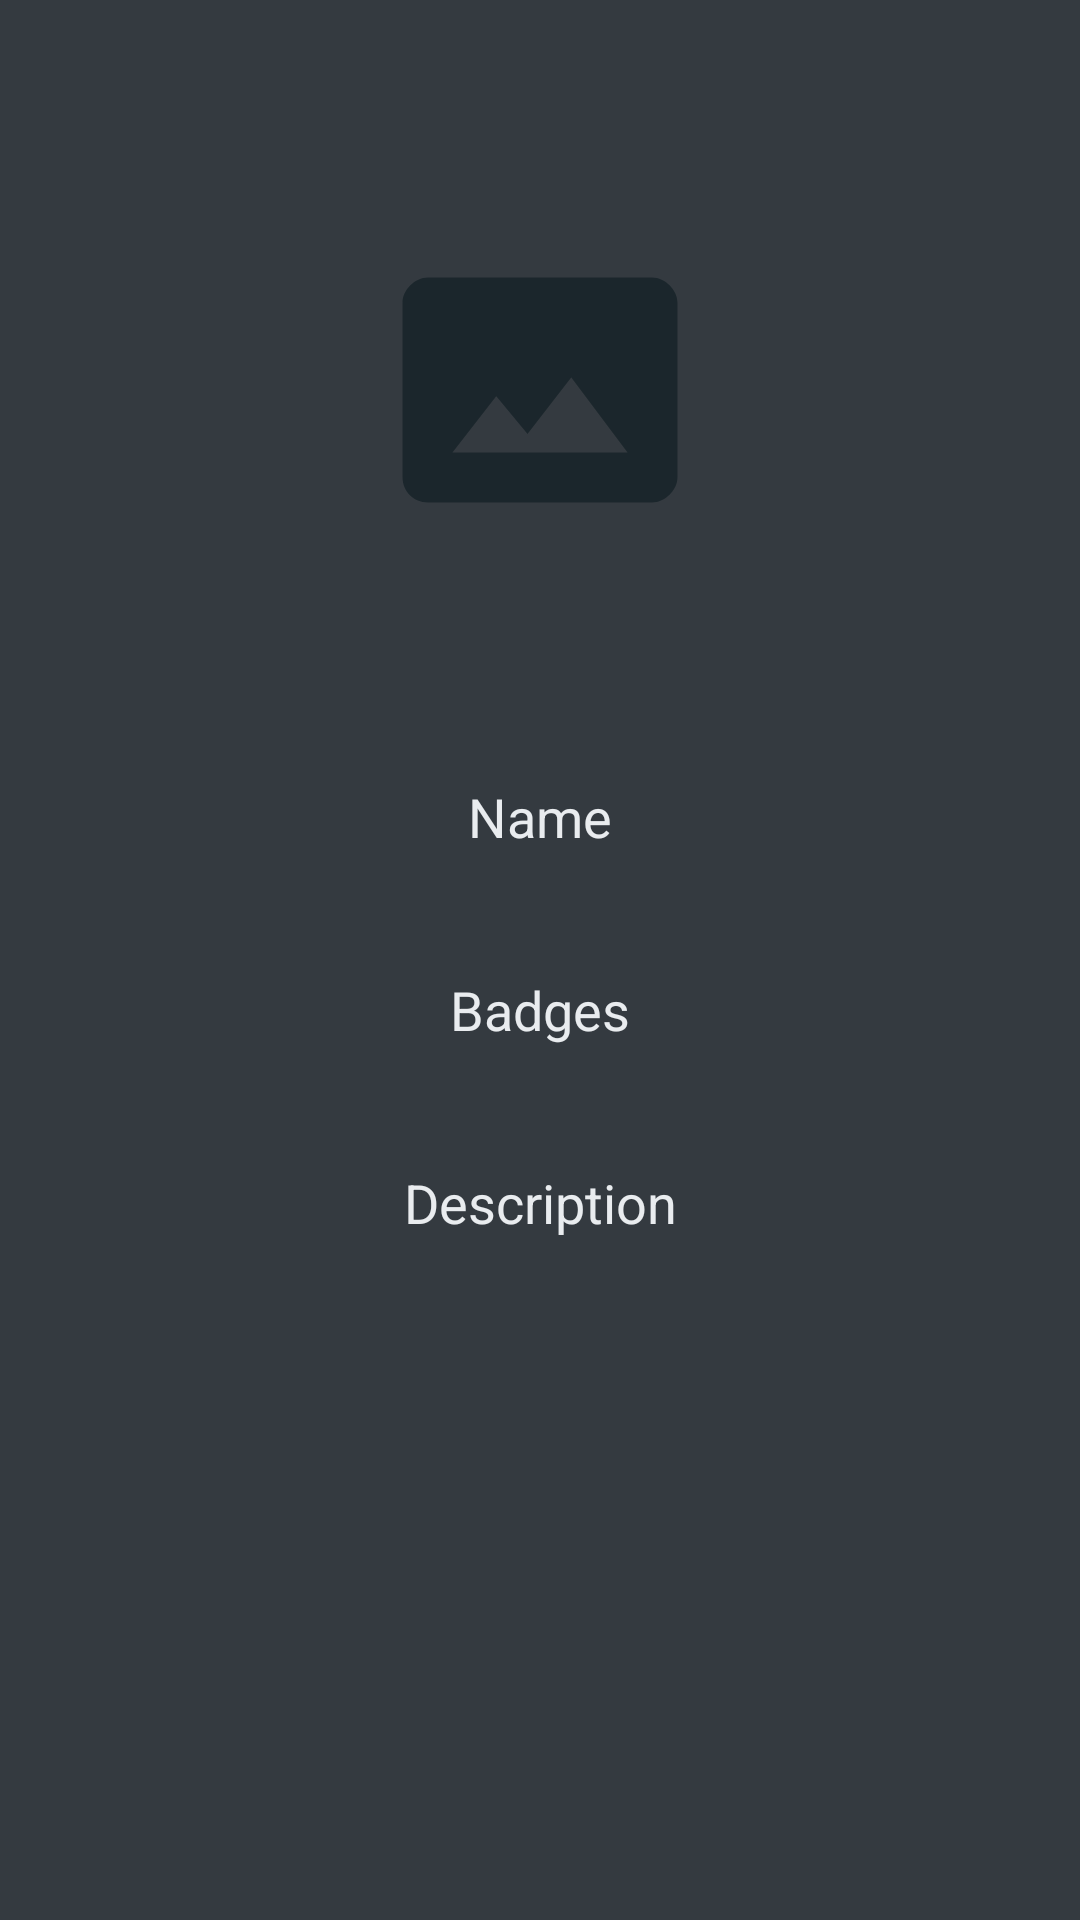

Icon bounding boxes for this 1080w x 1920h phone screenshot, format (x1=x1, y1=y1, x2=x2, y2=y2):
photo size select actual: (x1=403, y1=278, x2=677, y2=502)
